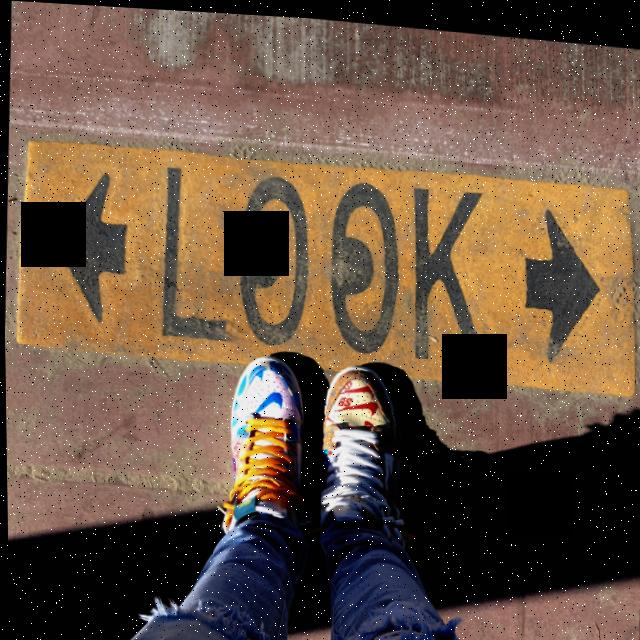shoe: (316, 358, 409, 547), (218, 346, 309, 526)
